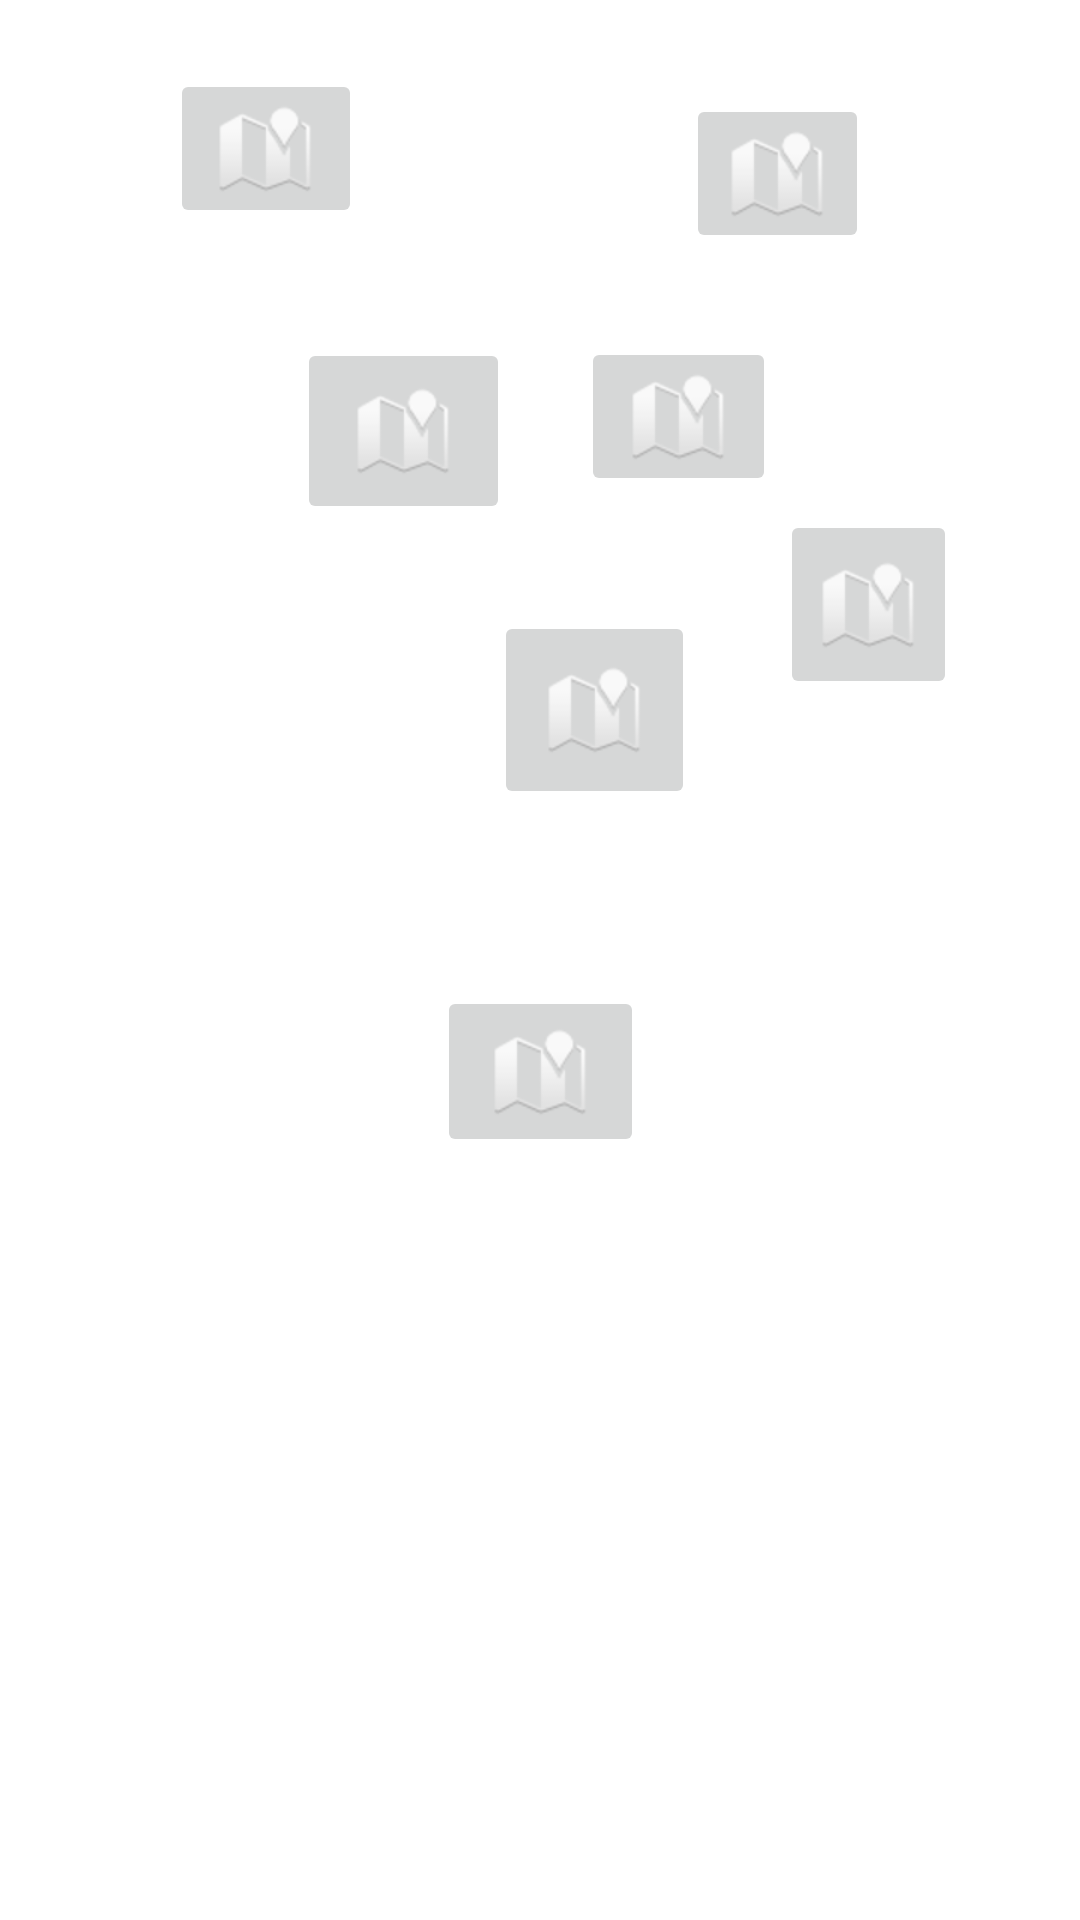

Where to tap for icons on this 1080px x 1920px app screen, as (x,y):
LOCATION IMAGE: (266,148), (777,173), (678,416), (403,431), (868,604), (594,710), (540,1071)
